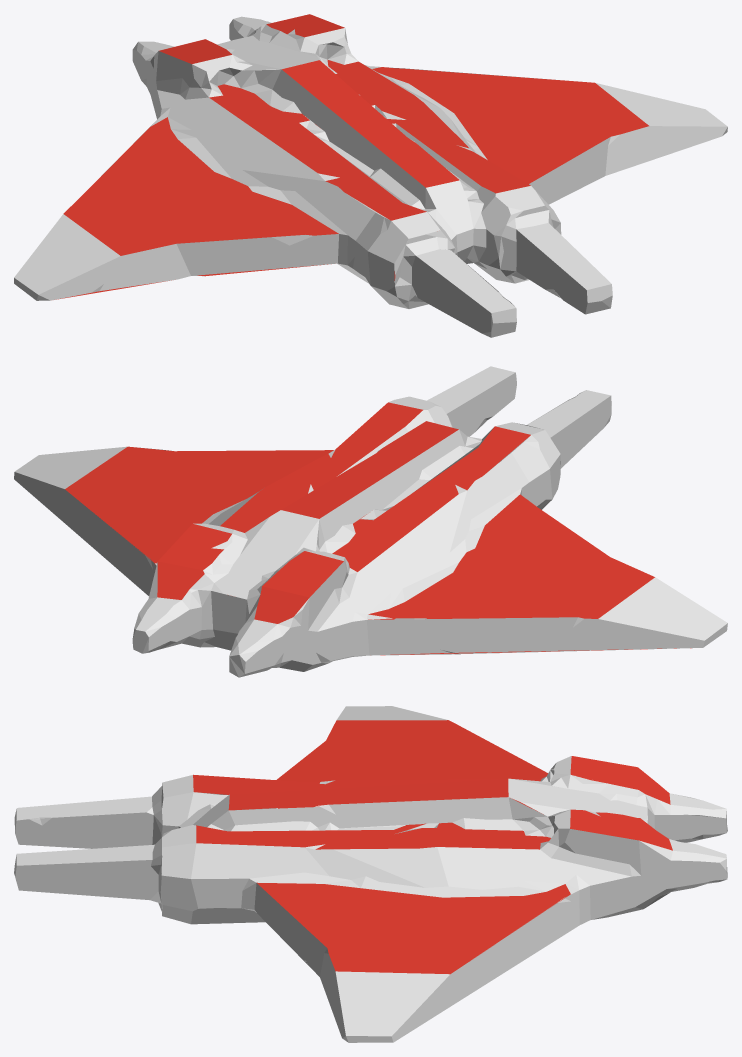
Rendered from vanguard_t3.glb.
The picture shows the model from 3 angles, top to bottom: view 1: azimuth 30°, elevation 25°; view 2: azimuth 150°, elevation 25°; view 3: azimuth 270°, elevation 25°; orthographic projection. The views are drawn at different scales.
Parts seen in each view (by area): view 1: Starfighter; view 2: Starfighter; view 3: Starfighter.
Boxes of the visible parts, <box> form: Starfighter: <box>14,14,727,337</box>; Starfighter: <box>14,366,727,677</box>; Starfighter: <box>14,706,727,1042</box>.
Bounding box in the file's own units: 81.59 × 11.97 × 74.54.
